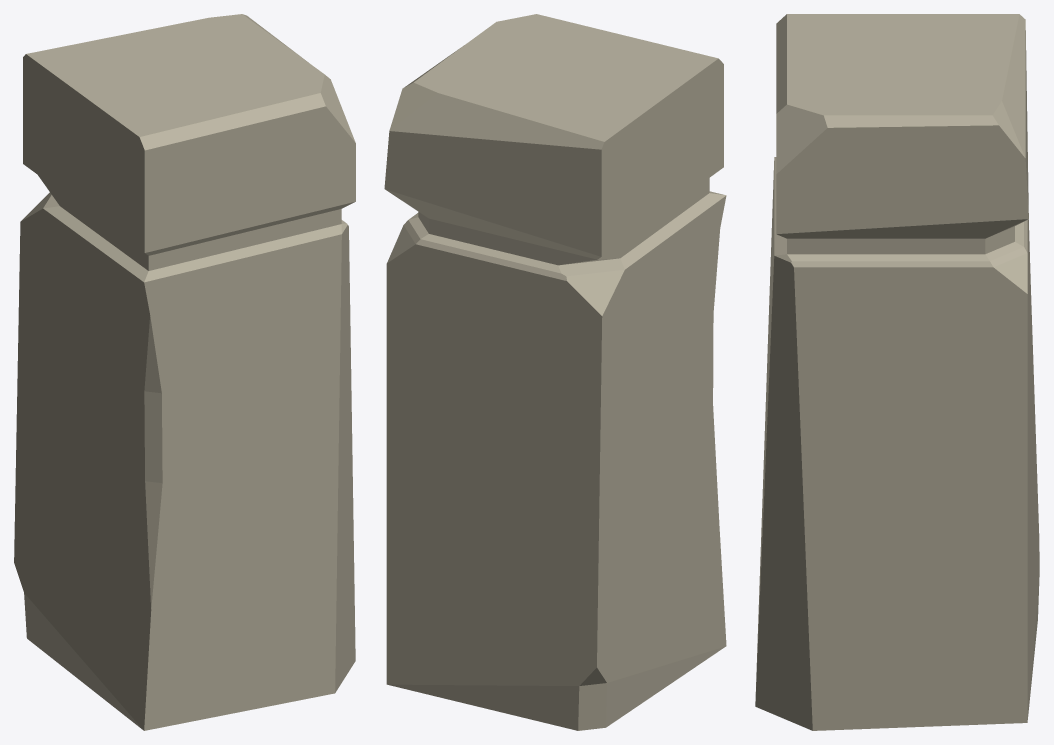
File: column_4_1.fbx
3 renders of one model, left to right at view 1: azimuth 30°, elevation 25°; view 2: azimuth 150°, elevation 25°; view 3: azimuth 270°, elevation 25°, orthographic. The views are drawn at different scales.
Parts seen in each view (by area): view 1: column_4_1; view 2: column_4_1; view 3: column_4_1.
Boxes of the visible parts, bbox=[...] form: column_4_1: bbox=[14, 14, 355, 730]; column_4_1: bbox=[384, 14, 726, 730]; column_4_1: bbox=[755, 14, 1039, 730].
Size of the model in its own units: 2.16 by 5.25 by 2.25.
